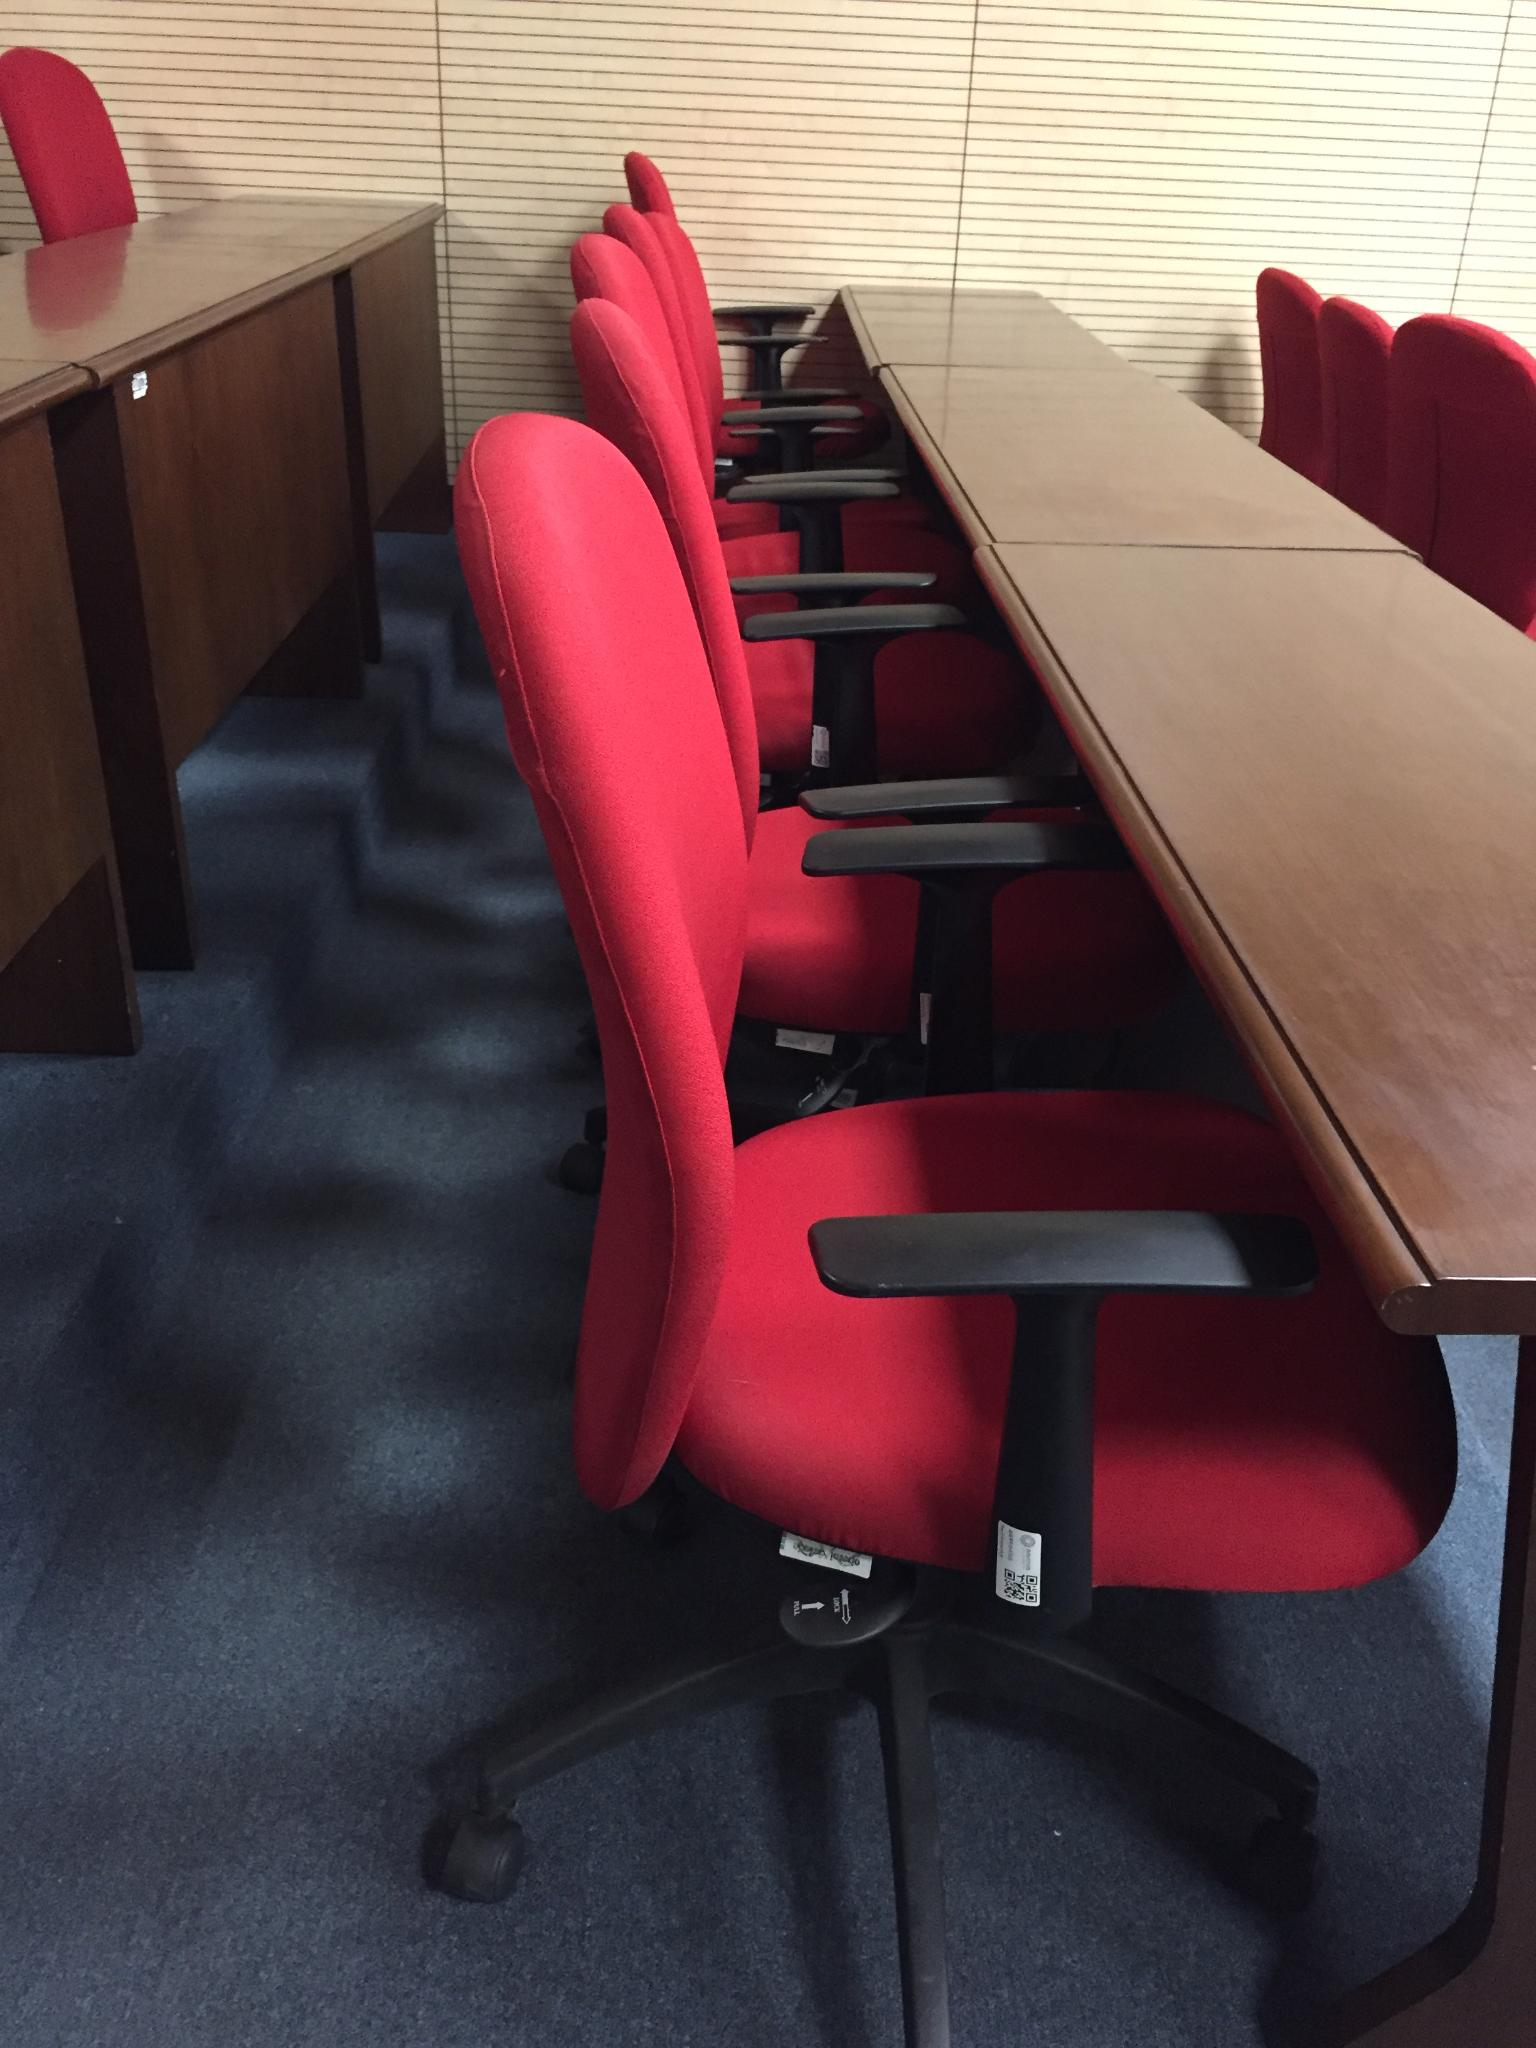chair: (423, 408, 1460, 2045), (565, 300, 1142, 1074), (560, 234, 1007, 756), (1234, 261, 1536, 627), (623, 145, 920, 434), (629, 202, 886, 493), (1384, 311, 1534, 639), (0, 29, 177, 269), (1317, 293, 1396, 526), (1254, 264, 1325, 487)
